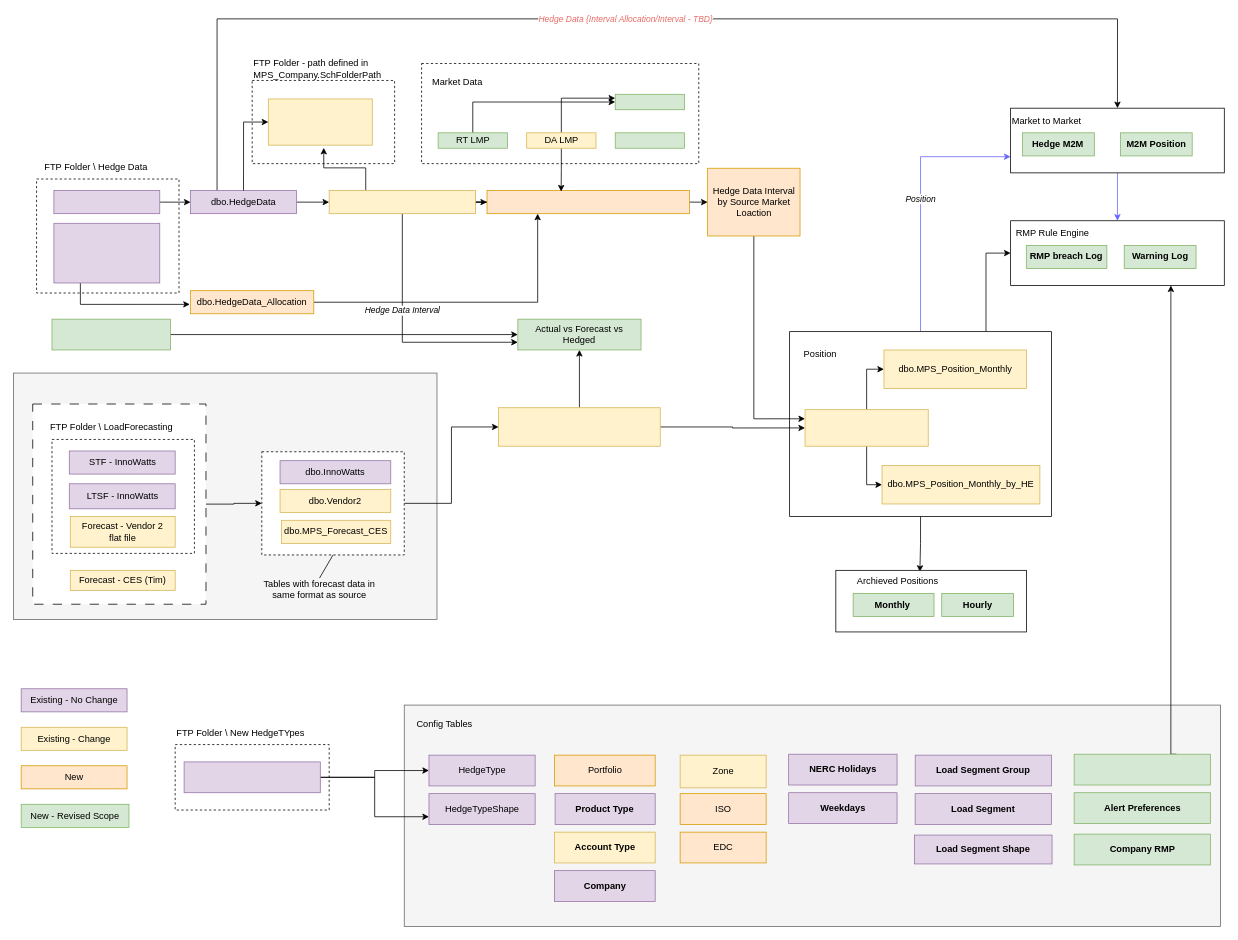
Image size: 1238x940. Some labels were removed from this diagram. The centre of each missing label's shape, as x and y in pixels:
Actual Load: [110,334]
Contract Allocation and Execution Schedule: [106,253]
dbo.MPS_HedgeData_Interval: [401,202]
dbo.MPS_HedgeData_Interval_Allocation: [588,202]
dbo.MPS_LoadForecastData_Interval: [579,426]
dbo.MPS_Position_Hourly: [866,427]
Forward Contracts: [106,202]
Forward Curves: [649,140]
Hedge_Type_YYYYMMDD_NN: [251,777]
Portfolio RMP: [1141,769]
Scalars: [649,102]
Scheduling Files: [320,121]
